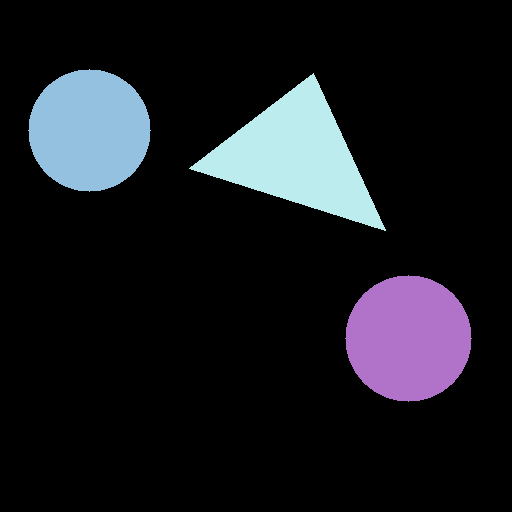circle: (345, 275, 471, 401), (28, 69, 150, 191)
triangle: (189, 73, 385, 230)
